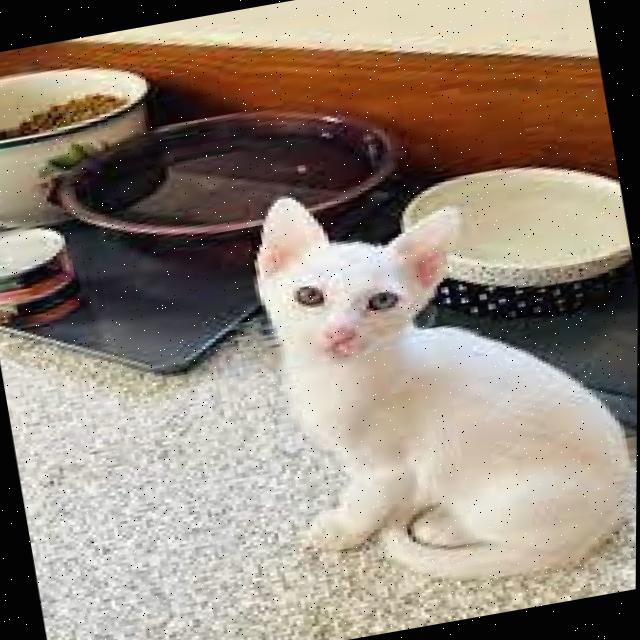Khao Manee: (230, 141, 639, 622)
